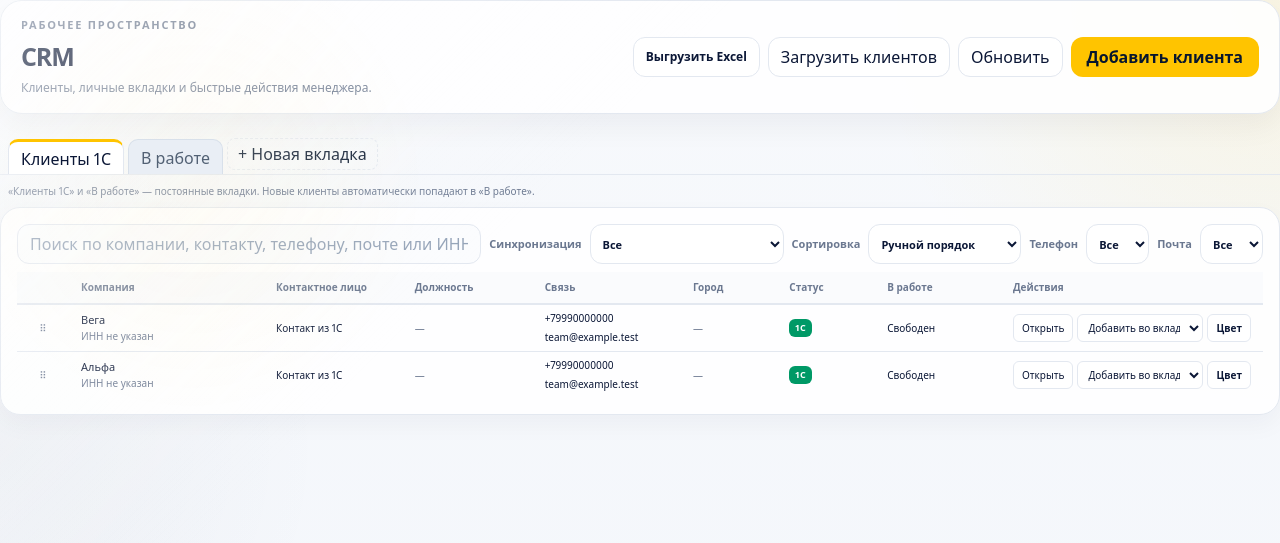
Scenario: desktop CRM list controls › sorts all workspace tabs locally, restores manual order, disables drag, and resets an empty result
The width and height of the screenshot is (1280, 543).
Check: the table is shown, box [17,272,1263,398]
Select "По названию: А–Я" in the dropdown labelled "Сортировка": (945, 244) [868,224,1021,264]
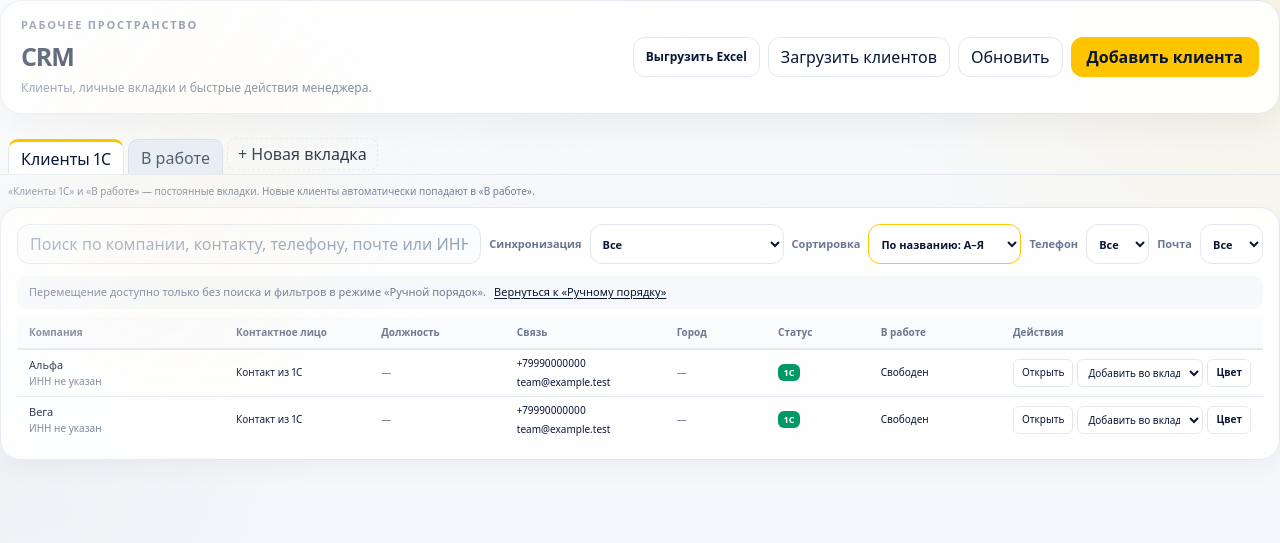
Check: the row that starts with "Альфа" is shown, box [29,356,63,372]
Check: the button titled "Переместить" is gone
Click the button "В работе": (176, 157) [128,139,223,175]
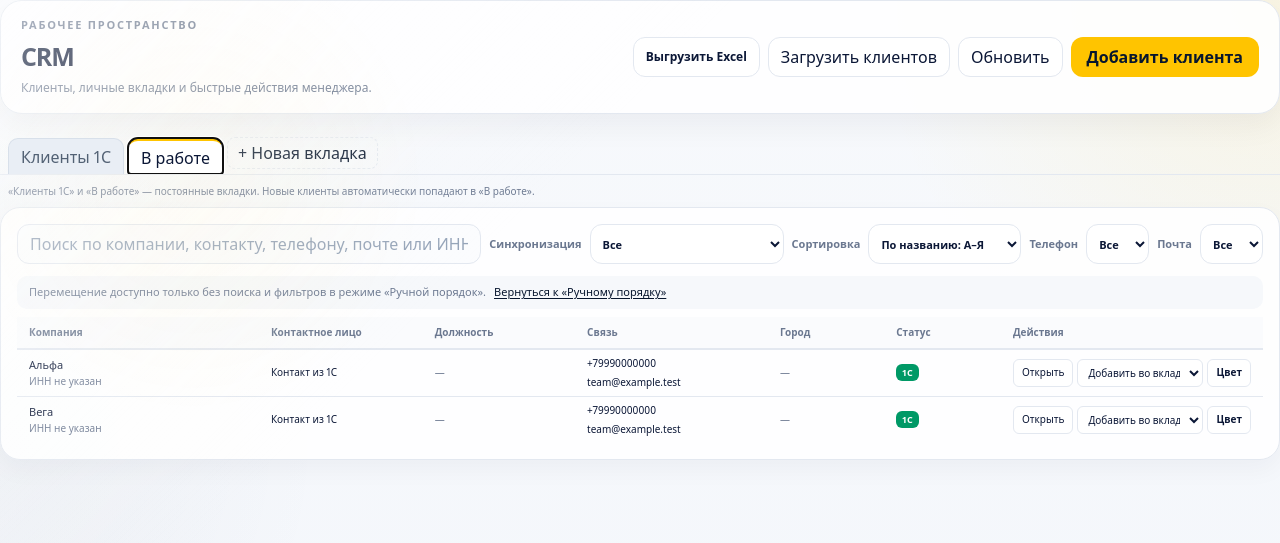
Check: the row that starts with "Альфа" is shown, box [29,356,63,372]
Select "Ручной порядок" in the dropdown labelled "Сортировка": (945, 244) [868,224,1021,264]
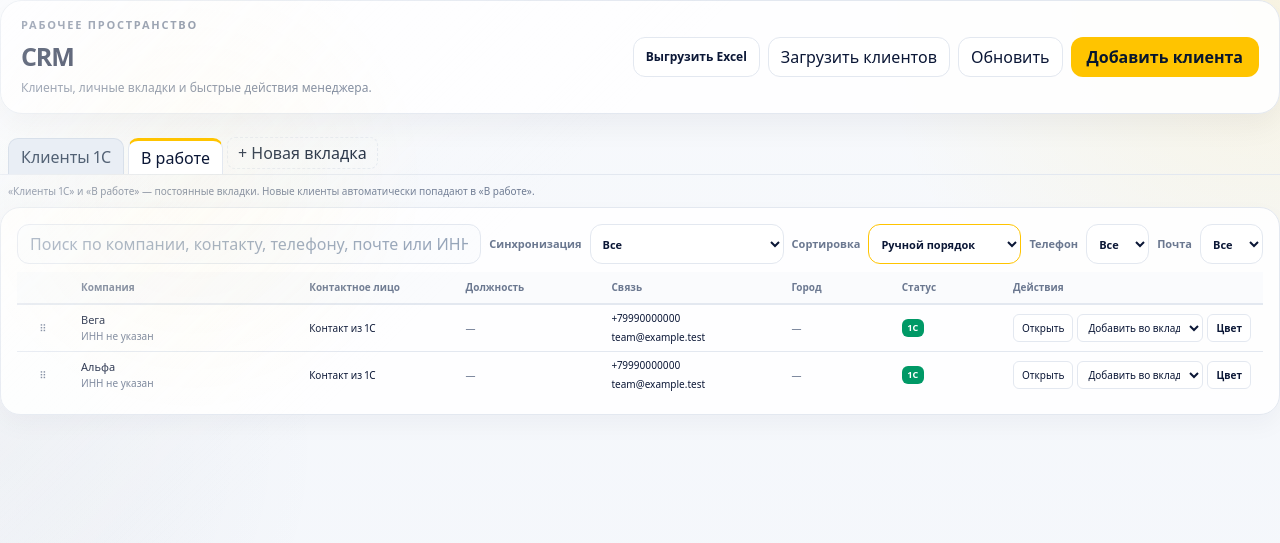
Check: the row that starts with "Вега" is shown, box [81,312,105,327]
Select "Нет" in the dropdown labelled "Телефон": (1118, 244) [1086,224,1149,264]
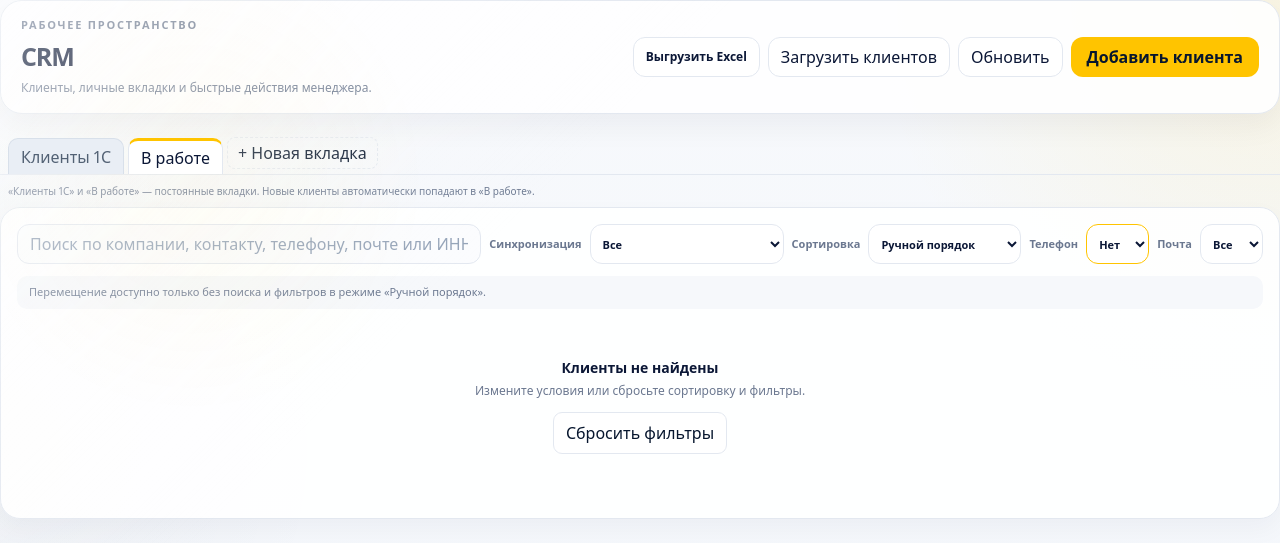
Check: the text "Клиенты не найдены" is shown, box [562,358,719,376]
Click the button "Сбросить фильтры": (640, 432) [553,412,727,454]
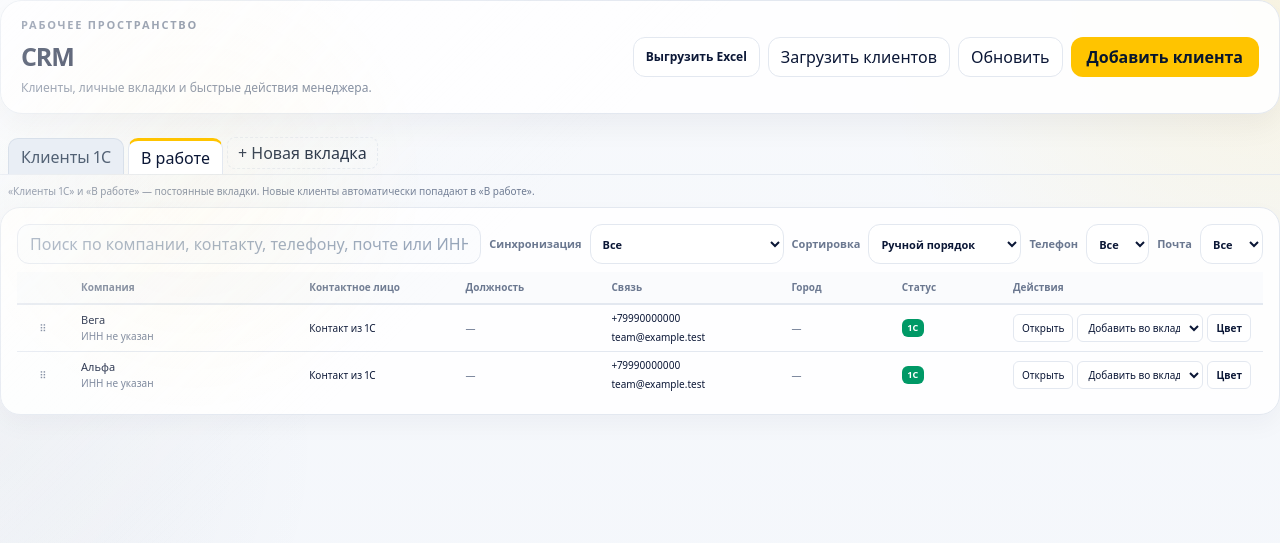
Check: the row that starts with "Вега" is shown, box [81,312,105,327]
